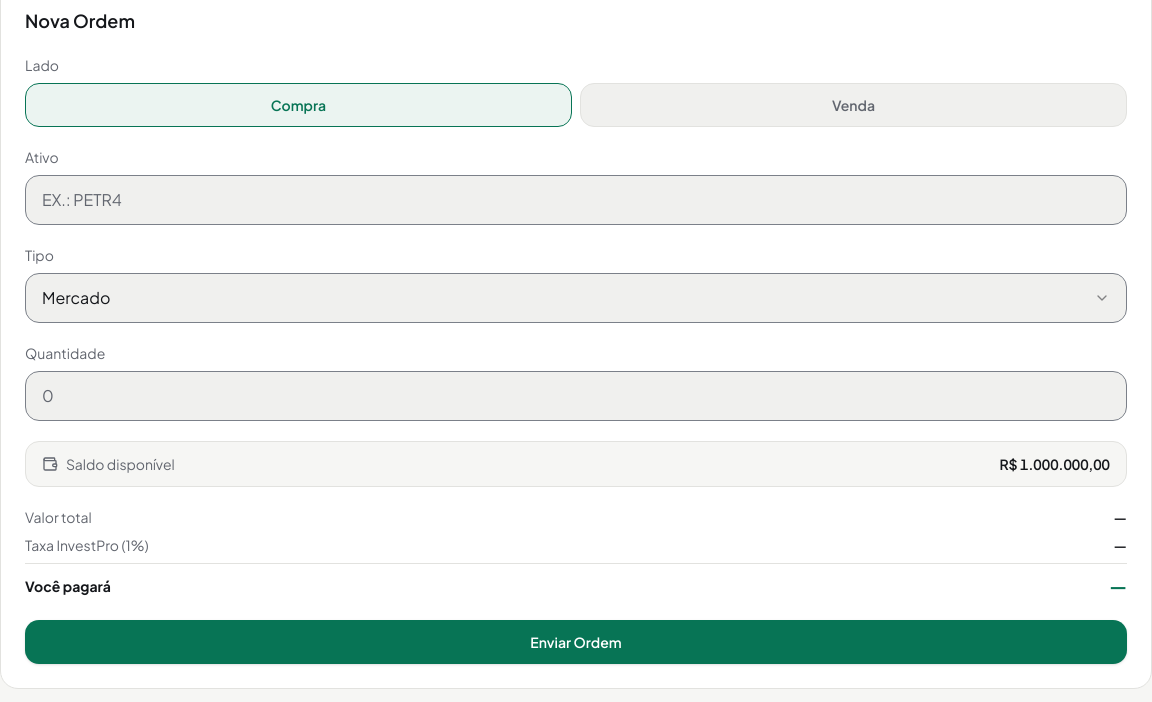
it: NewOrderForm › venda limpa o ticker que não é possuído e barra quantidade acima da posição
Type "PETR4" into the dropdown with placeholder "ex.: PETR4" at [576, 200], box [25,175,1127,225]
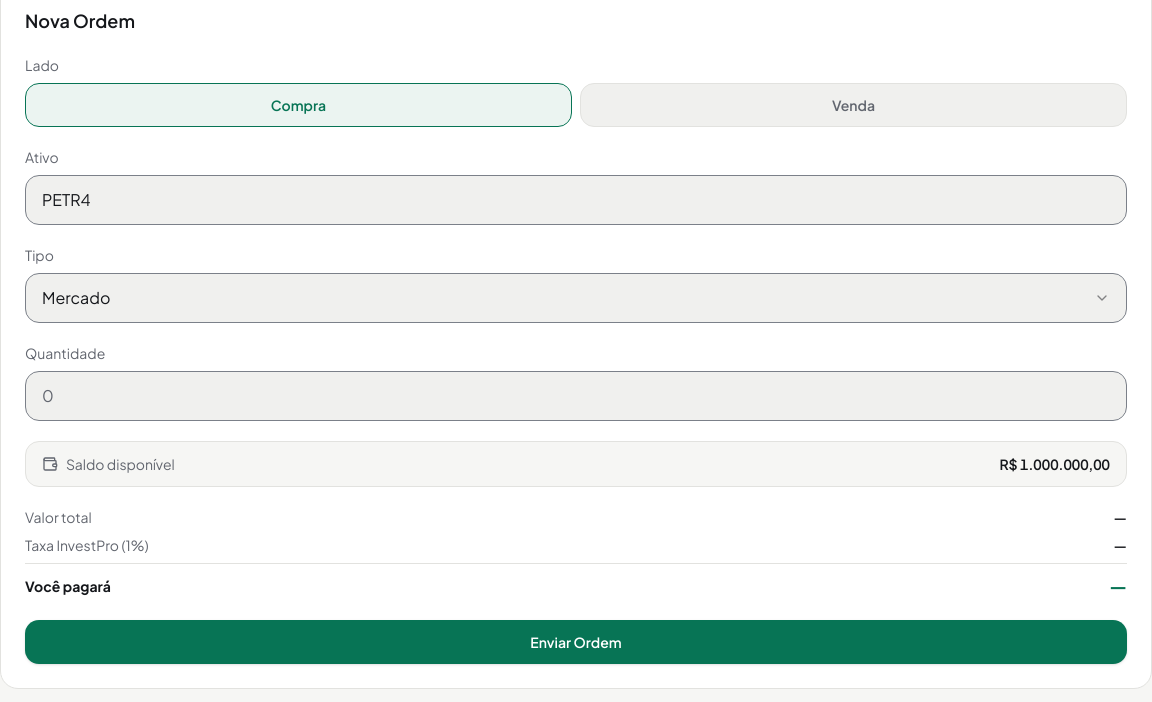
Click the button "Venda" at [854, 105], box [580,83,1127,127]
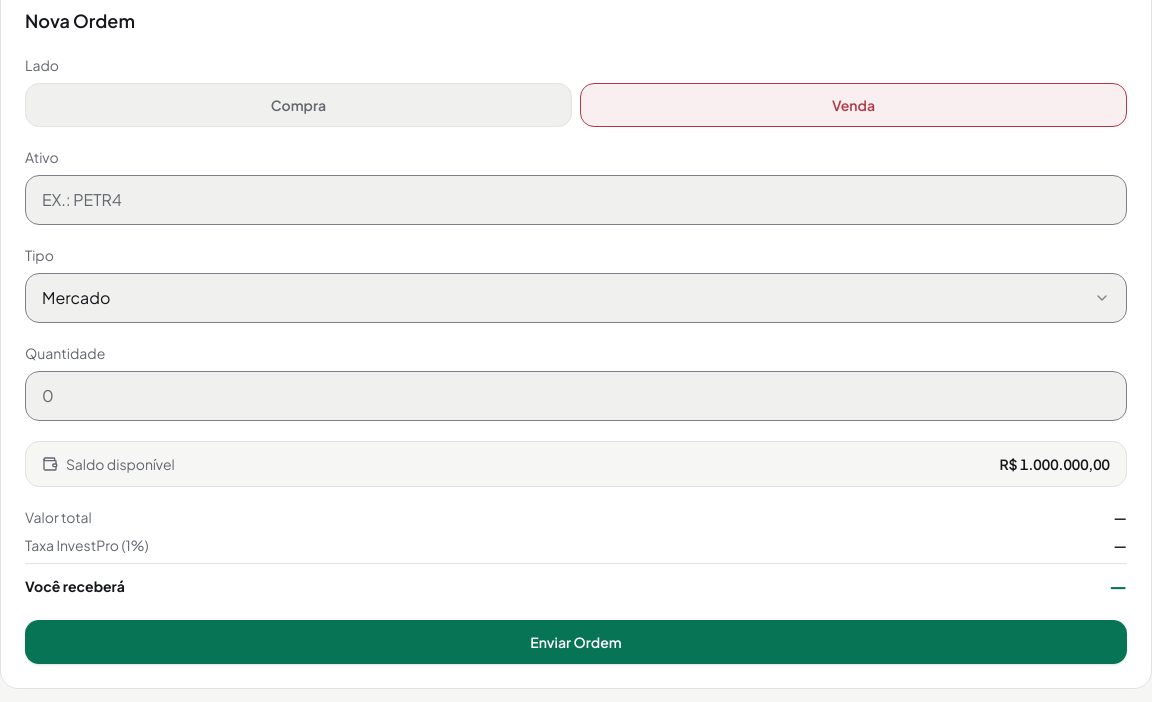
Expected: the dropdown with placeholder "ex.: PETR4" is empty
Type "BTC" into the dropdown with placeholder "ex.: PETR4" at [576, 200], box [25,175,1127,225]
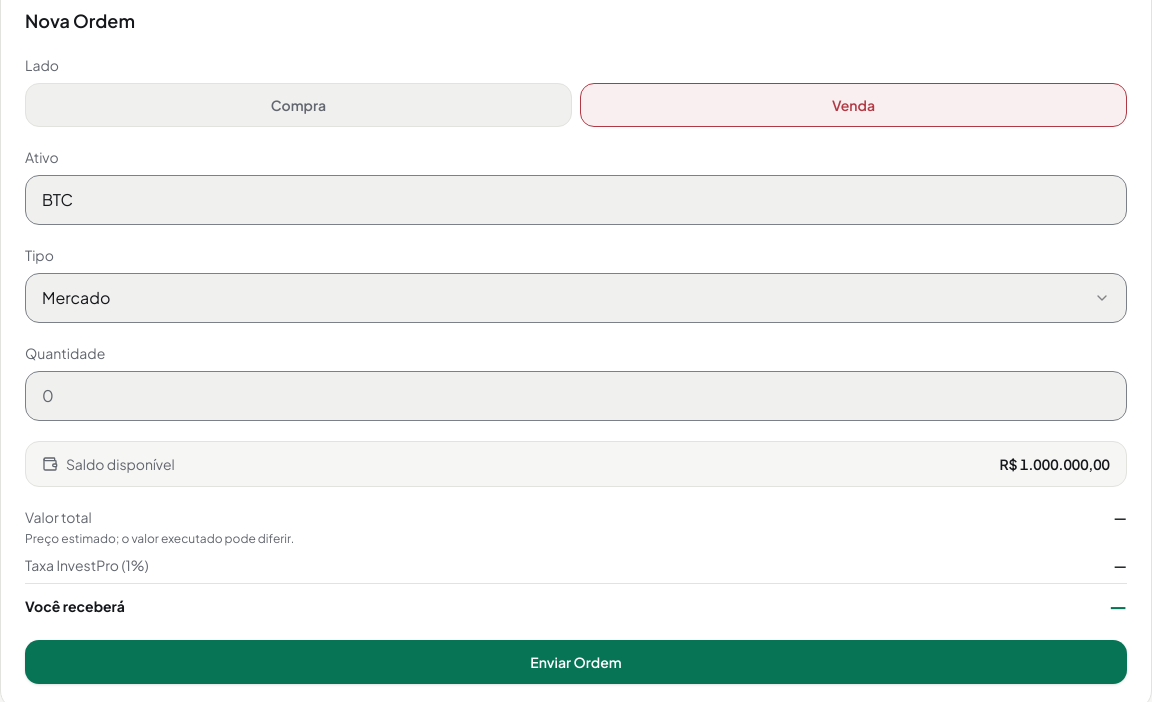
Type "3" into the field labelled "Quantidade" at [576, 396], box [25,371,1127,421]
(page scrolled)
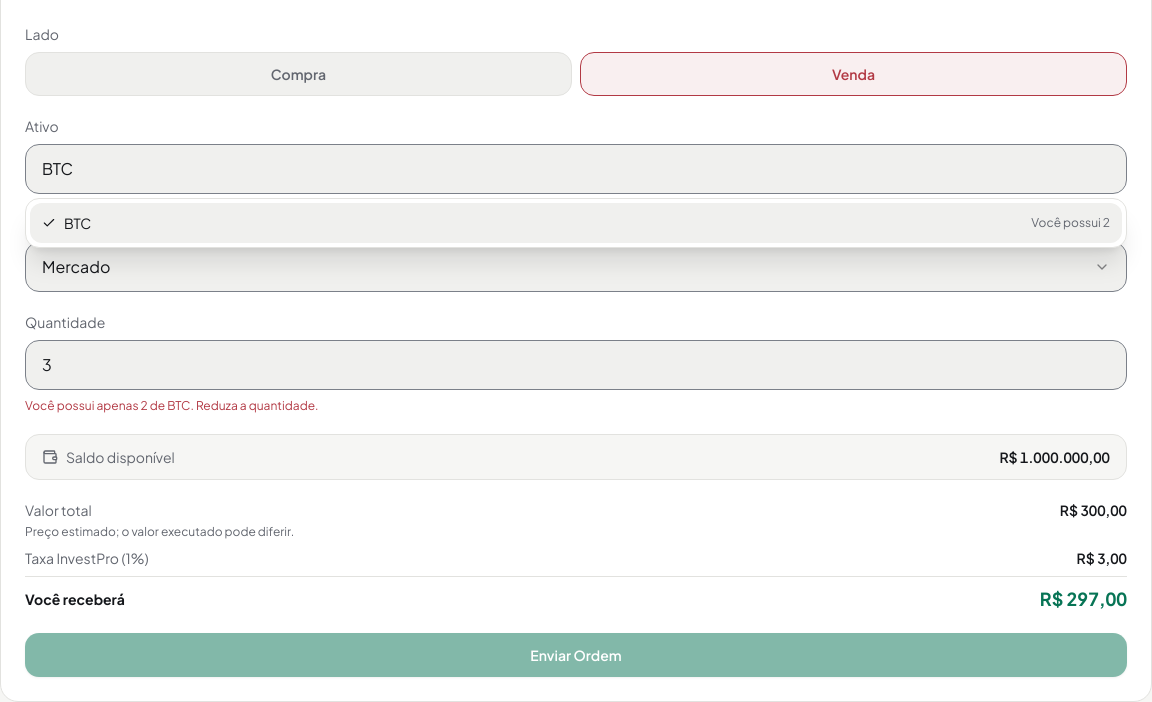
Expected: the text "Você receberá" is shown, [25,589,125,609]
Expected: the message shows "Você possui apenas 2 de BTC", [25,398,318,413]
Expected: the button "Enviar Ordem" is disabled, [25,633,1127,677]
